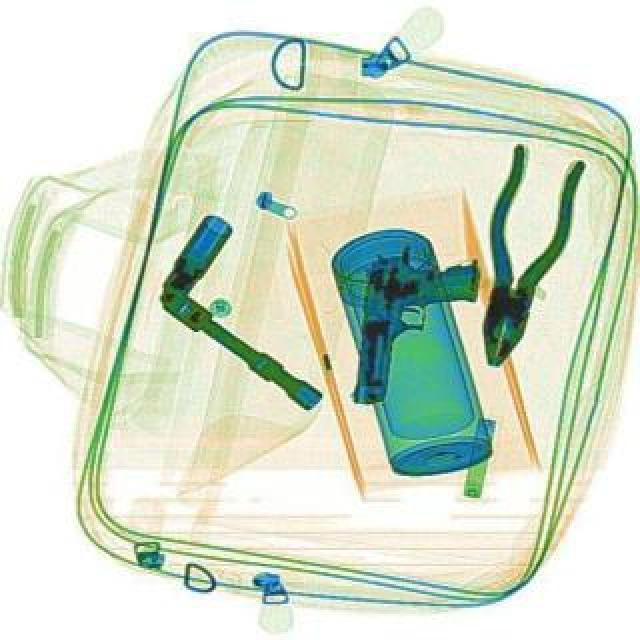gun: (344, 242, 480, 420)
wrench: (450, 140, 586, 376)
